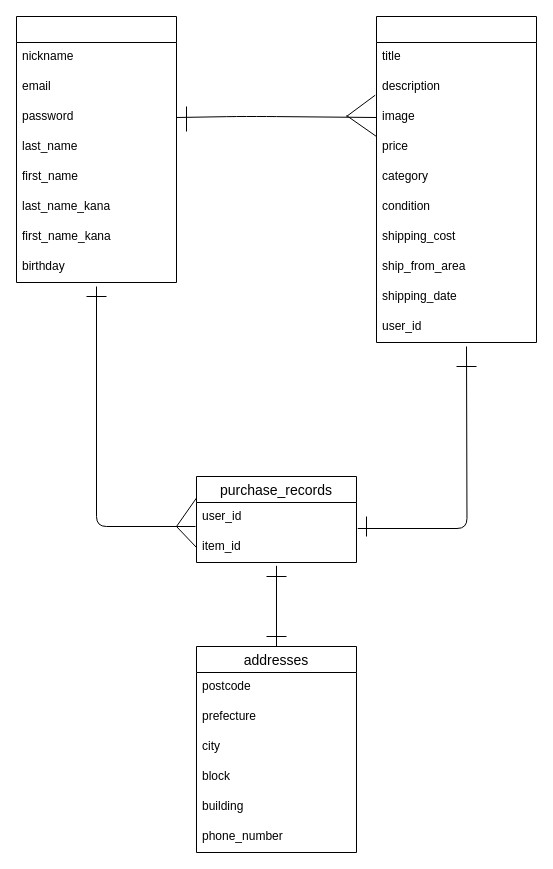
Some shapes in this 553 by 869 pixel diagram are drawn without their labels. The box of each missing label's shape, as (x1, y1, x2, y2) in pixels:
items: (376, 16, 536, 342)
users: (16, 16, 176, 282)
